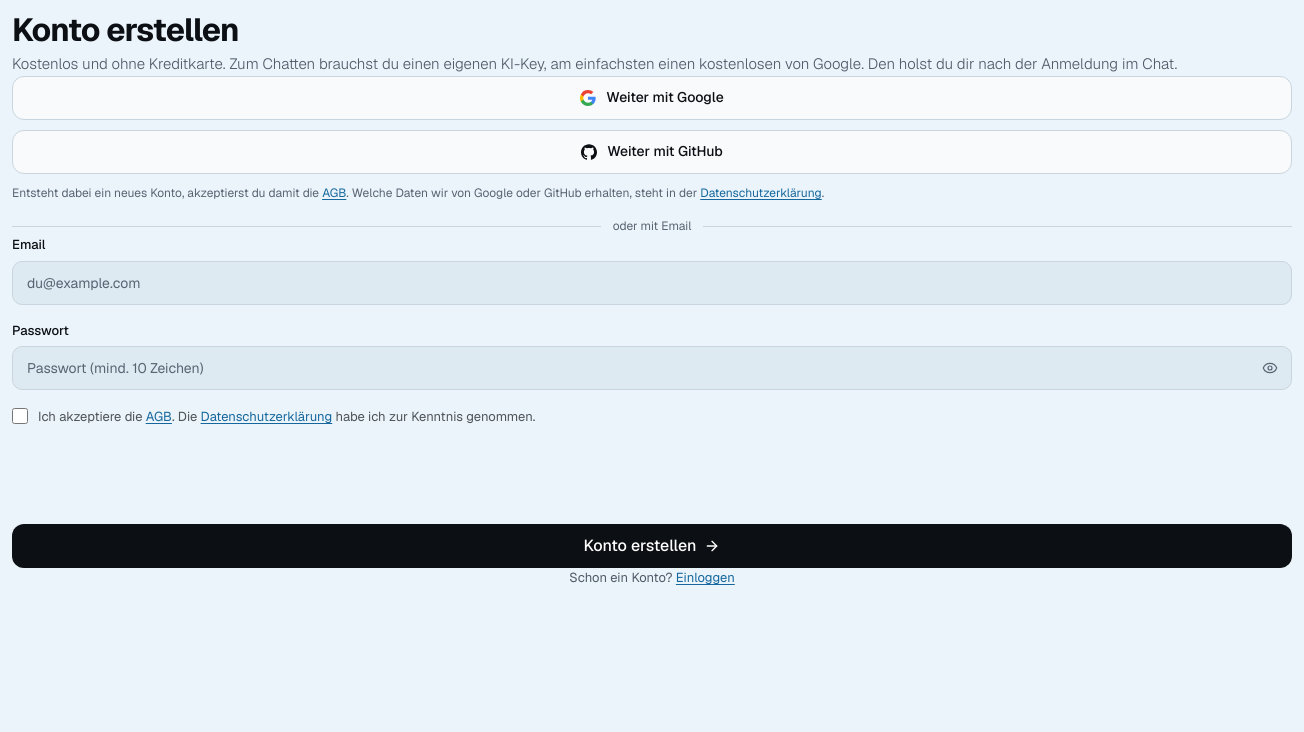
Test case: SignUpExperience › weist ein Passwort mit der eigenen Adresse ab
The image size is (1304, 732).
Type "kasumbajrami7@example.com" into the field with placeholder "du@example.com" at (652, 283), box [12, 261, 1292, 305]
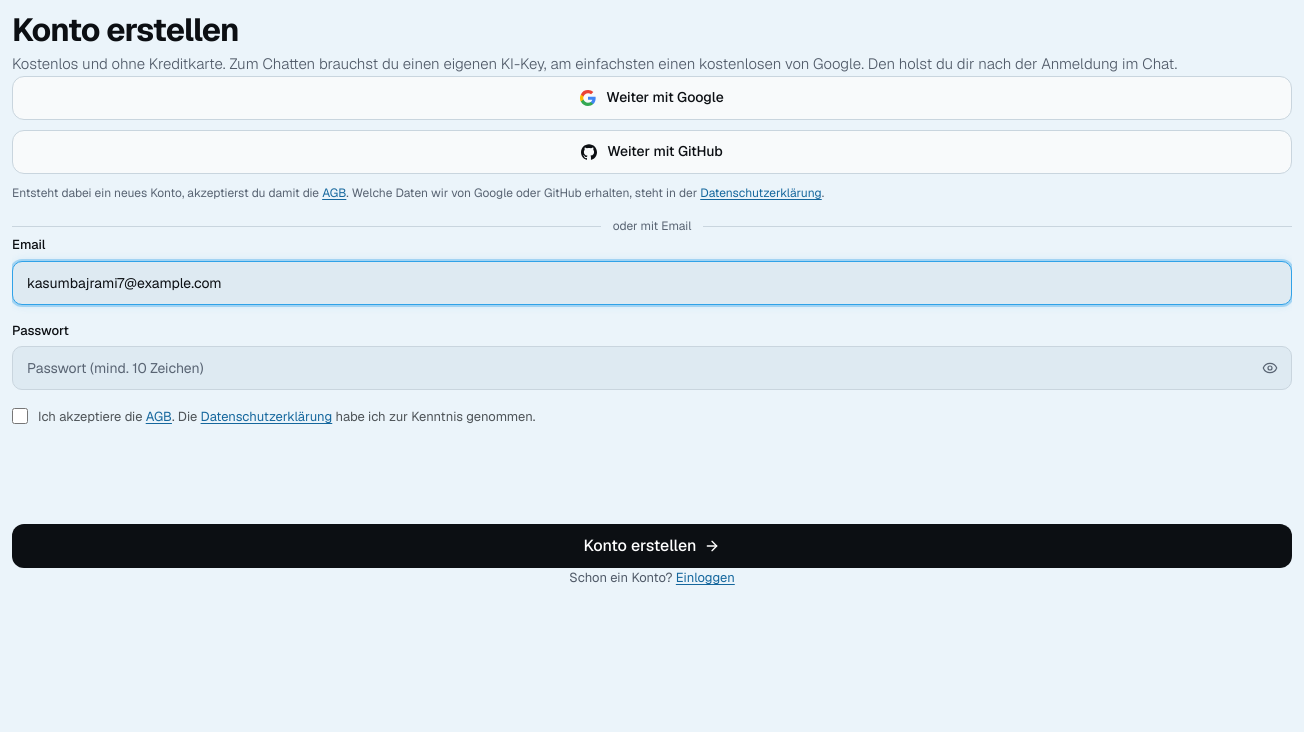
Type "xx-kasumbajrami-xx-9" into the password field with placeholder "Passwort (mind. 10 Zeichen)" at (652, 368), box [12, 346, 1292, 390]
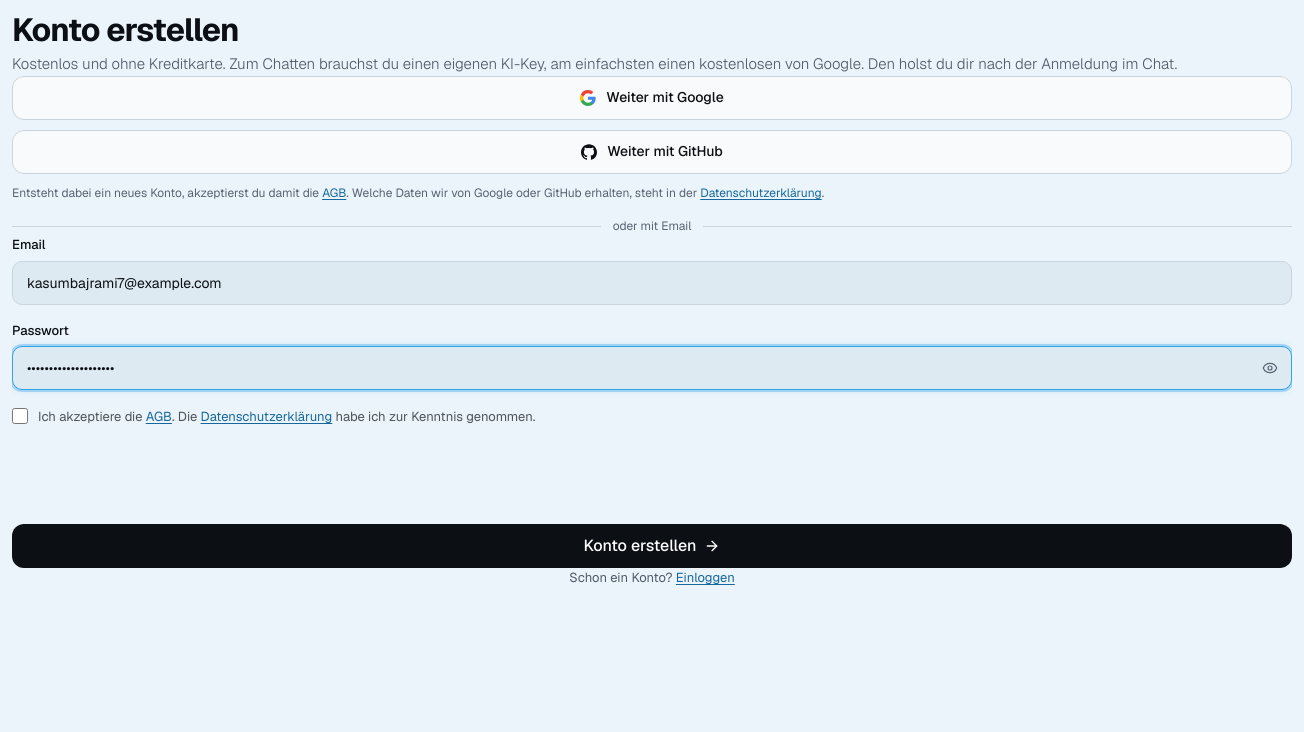
Click the checkbox at (20, 416), box [12, 408, 28, 424]
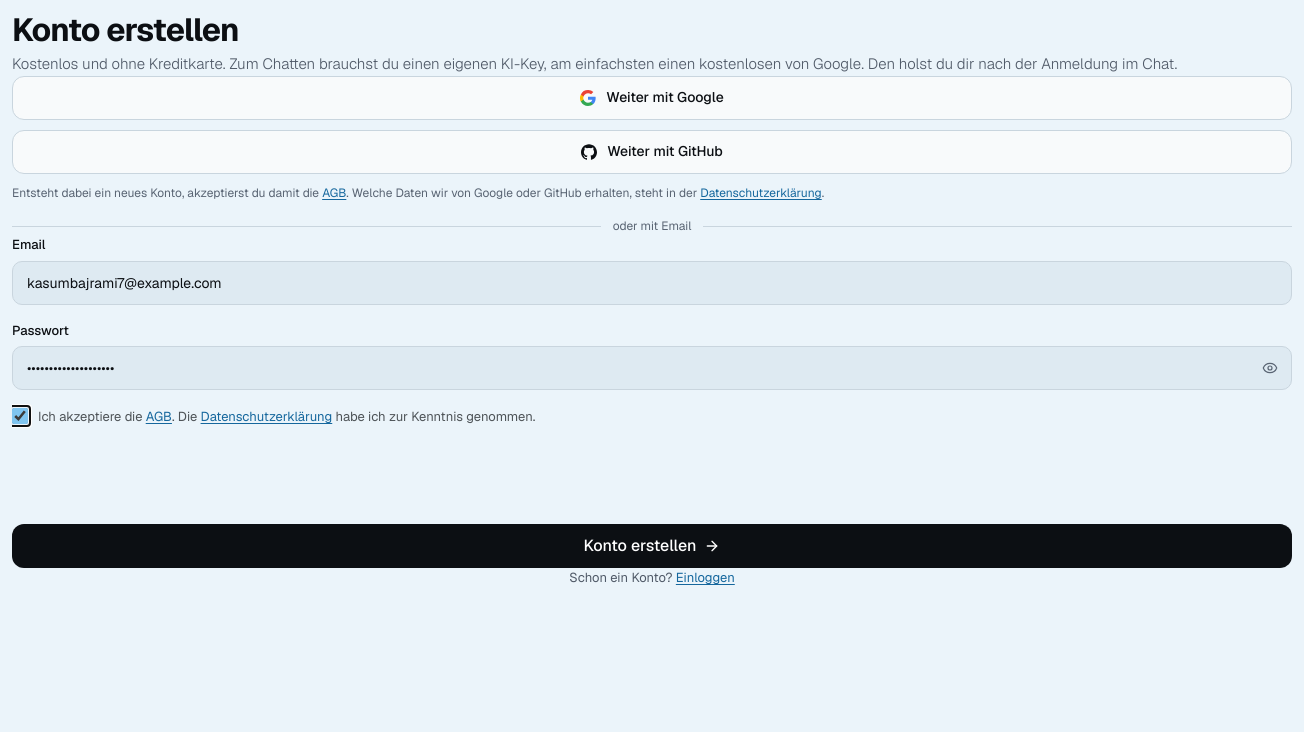
Submit the form with placeholder "du@example.com", box [12, 235, 1292, 568]
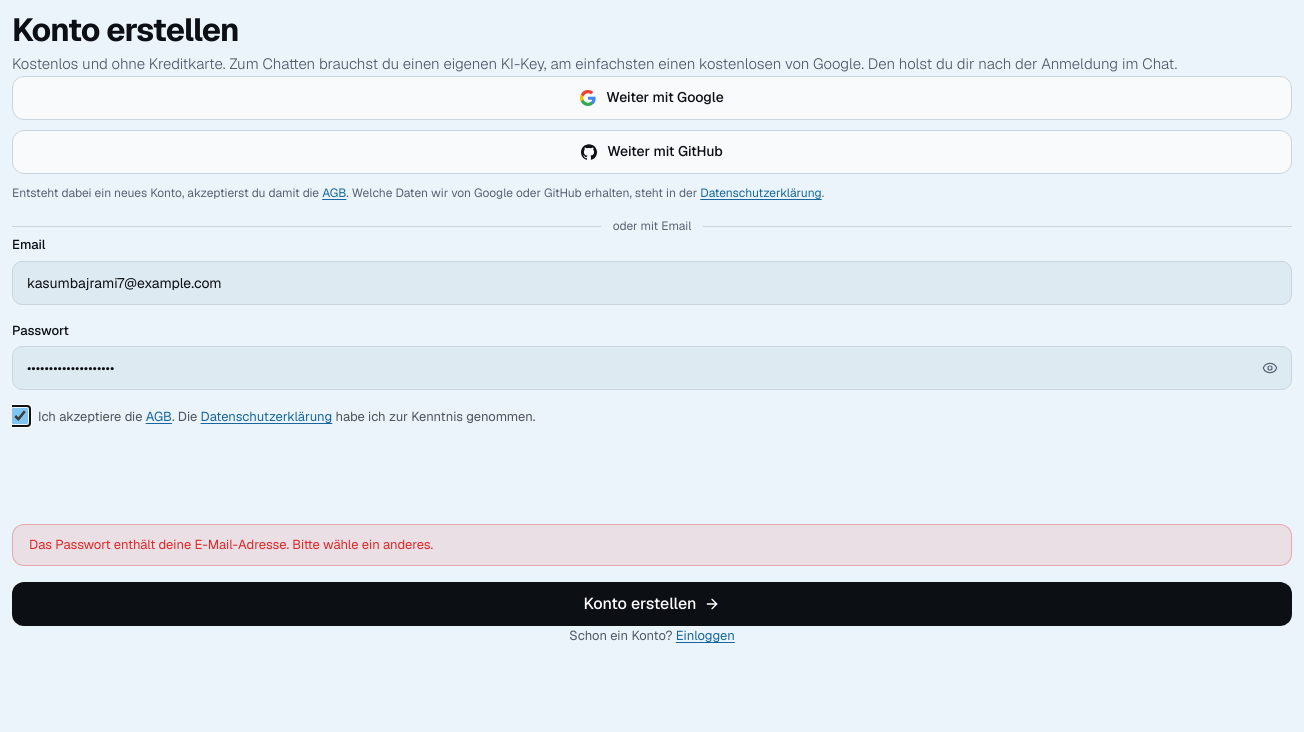
expect the message shows "E-Mail": met, box [29, 536, 433, 553]
